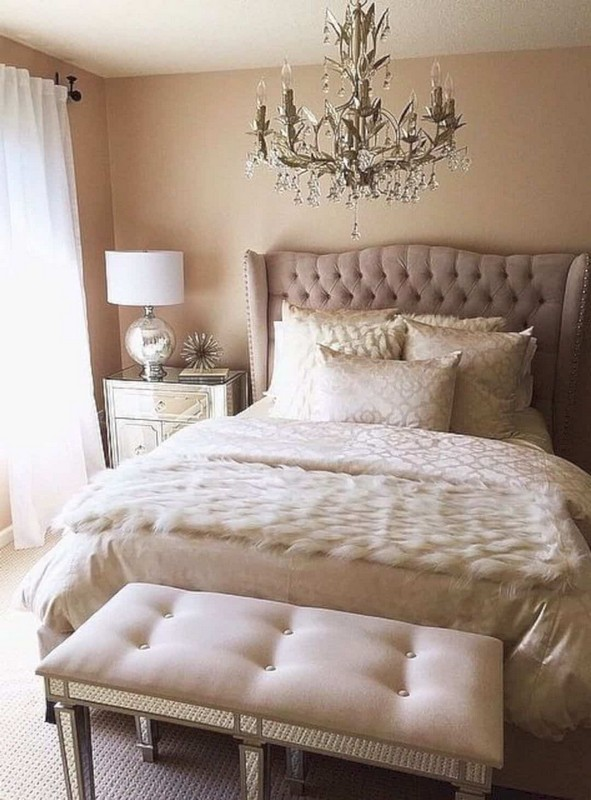bed: (62, 238, 591, 695)
lamp: (106, 244, 183, 387)
stool: (36, 580, 506, 795), (99, 360, 247, 487)
